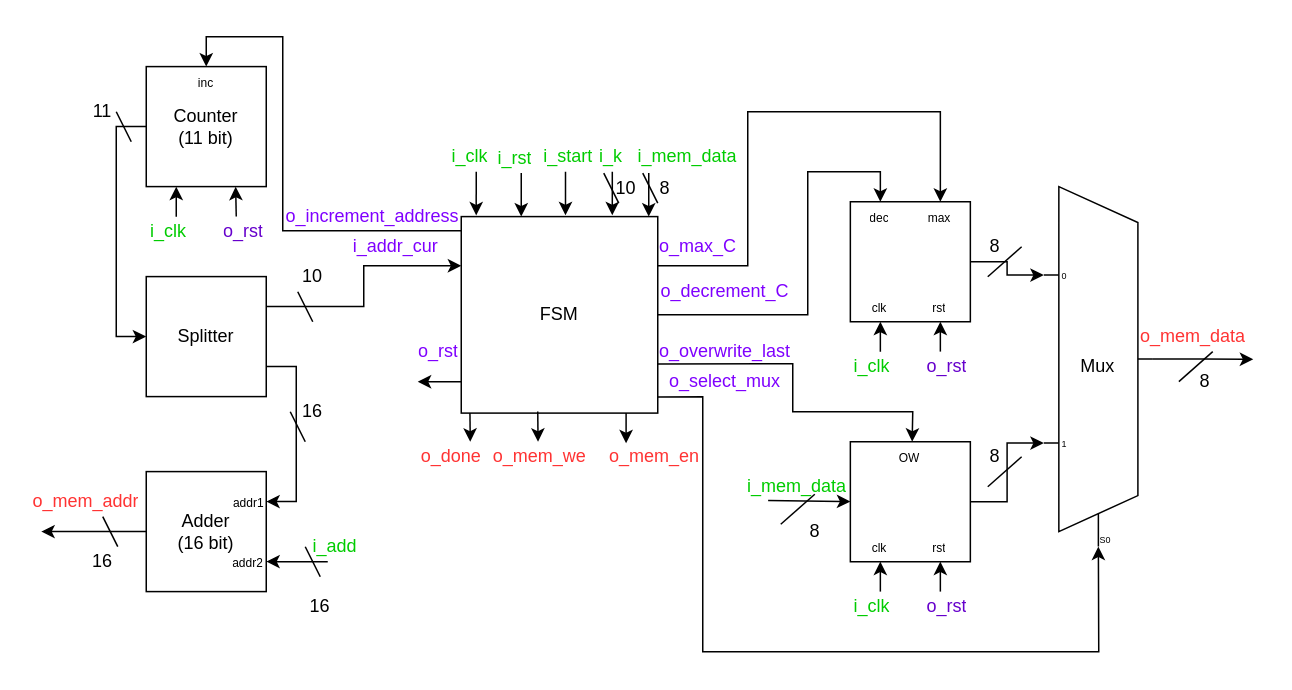
Some shapes in this 1292 by 690 pixel diagram are drawn without their labels. The shapes that lost their labels are listed below. From the top down, each one's box as (x1, y1, x2, y2) in pixels, then its label:
(849, 200, 970, 322): confidence_ countdown
(849, 440, 970, 562): Registro (8 bit)
